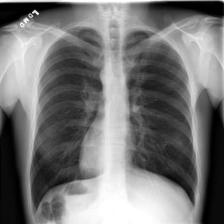normal: (23, 17, 202, 220)
